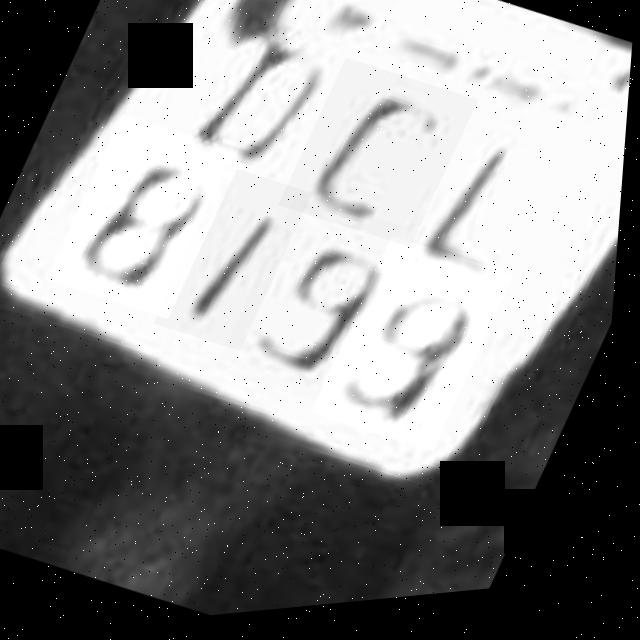1: (157, 164, 318, 363)
8: (46, 107, 250, 332)
9: (217, 188, 437, 430), (314, 234, 521, 471)
O: (278, 54, 483, 266)
